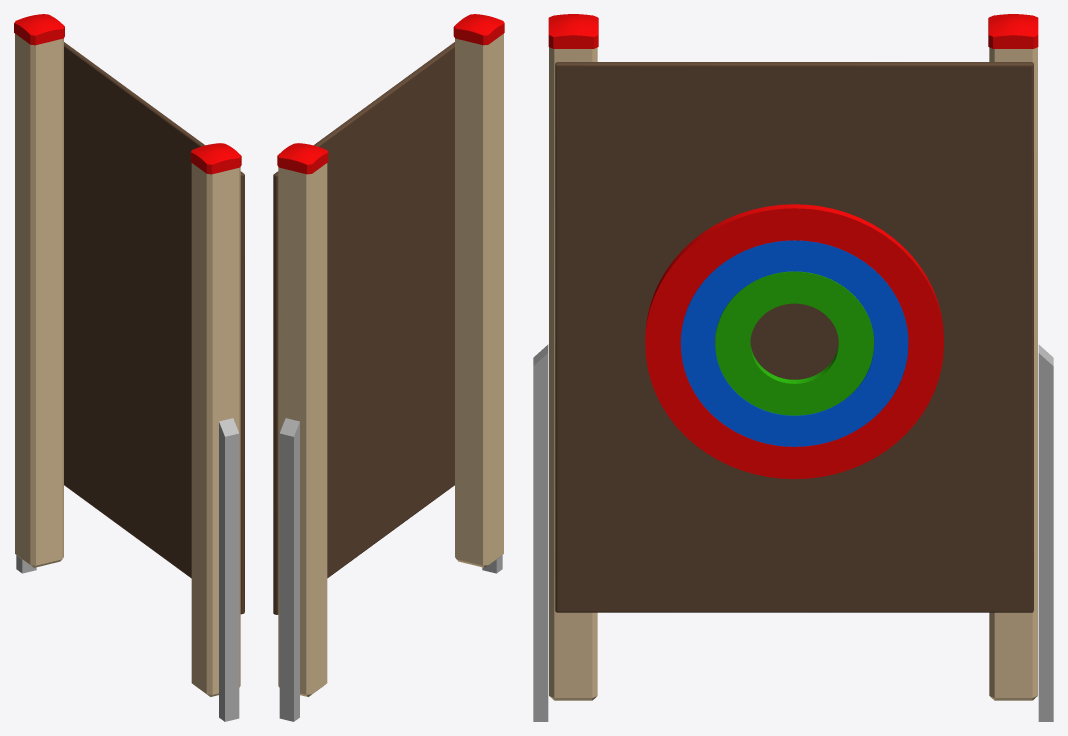
3 views of the same model, side by side, from view 1: azimuth 30°, elevation 25°; view 2: azimuth 150°, elevation 25°; view 3: azimuth 270°, elevation 25° (orthographic). The views are drawn at different scales.
Visible parts, largest first — view 1: doska, derevo, metal, zaglushki; view 2: doska, derevo, metal, zaglushki; view 3: doska, krasnyikrug, siniikrug, derevo, zeleniykrug, metal, zaglushki.
Boxes of the visible parts, <box> form: doska: <box>64,42,244,614</box>; derevo: <box>15,34,240,696</box>; metal: <box>16,418,239,721</box>; zaglushki: <box>14,14,241,174</box>; doska: <box>273,42,454,614</box>; derevo: <box>278,33,503,696</box>; metal: <box>279,418,502,721</box>; zaglushki: <box>277,14,504,174</box>; doska: <box>555,62,1033,612</box>; krasnyikrug: <box>645,204,943,479</box>; siniikrug: <box>680,240,908,446</box>; derevo: <box>549,47,1037,700</box>; zeleniykrug: <box>715,271,873,415</box>; metal: <box>533,344,1053,721</box>; zaglushki: <box>548,14,1038,48</box>.
Bounding box in the file's own units: 13.18 × 152 × 103.
